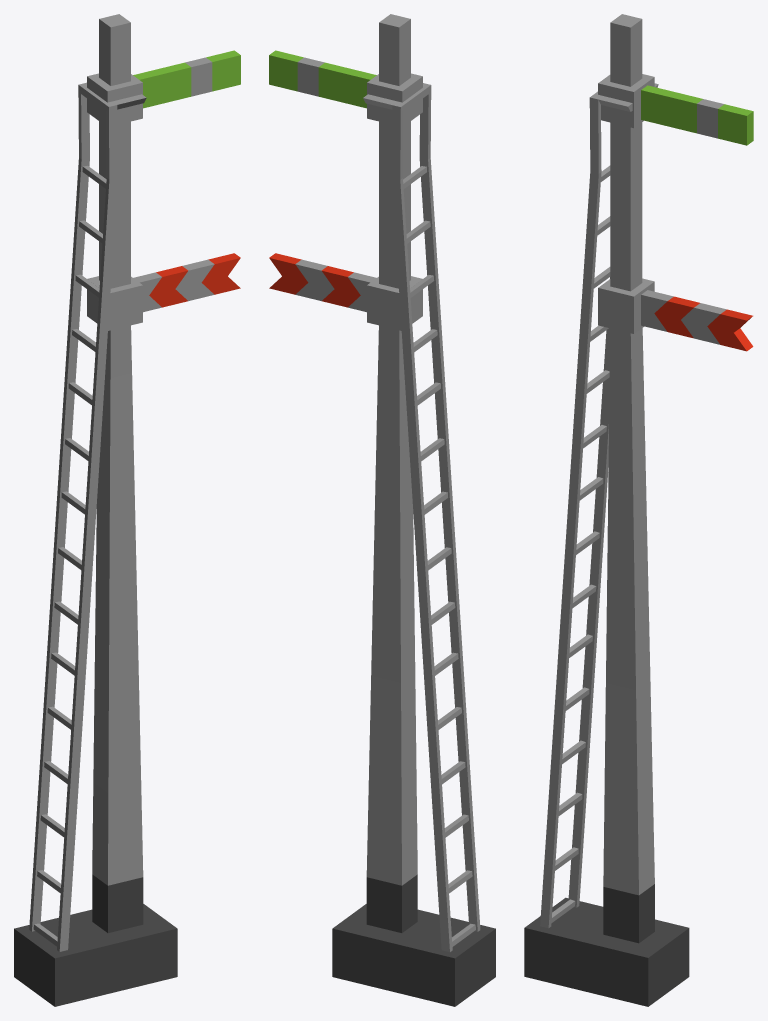
File: west_huoche04.FBX
3 views of the same model, side by side, from view 1: azimuth 30°, elevation 25°; view 2: azimuth 150°, elevation 25°; view 3: azimuth 330°, elevation 25° (orthographic).
Visible parts, largest first — view 1: west_huoche04; view 2: west_huoche04; view 3: west_huoche04.
Boxes of the visible parts, x1,y1,x2,y2 form: west_huoche04: [14, 14, 240, 1006]; west_huoche04: [269, 14, 495, 1006]; west_huoche04: [524, 14, 753, 1006].
Size of the model in its own units: 944 by 4225 by 328.
